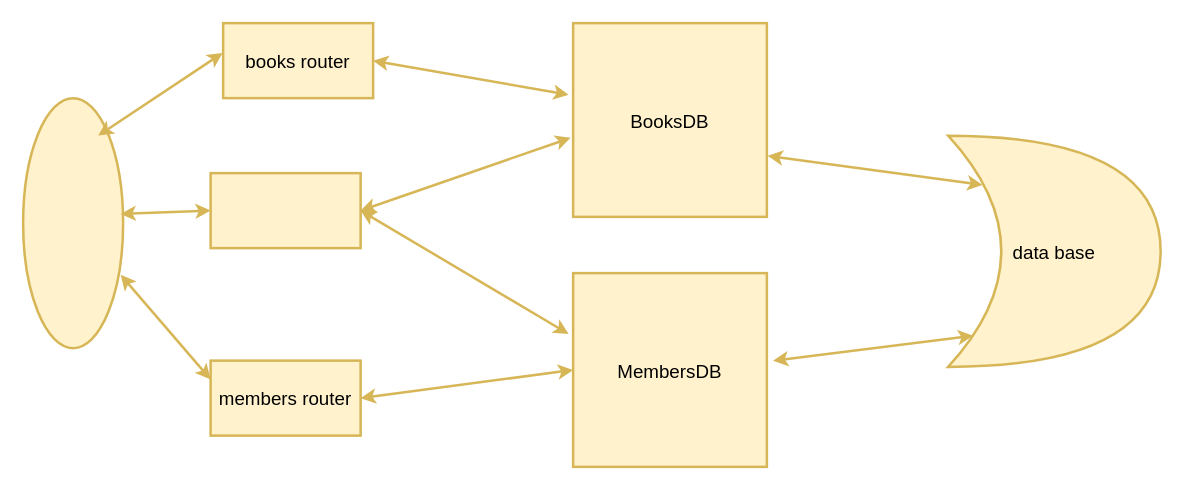
The diagram is 1183 pixels wide and 489 high, and some of its shapes have lost their labels. Here are the shapes that lost their labels. From the top down, the centre of each, then its label:
point (72, 222): client
point (285, 210): reports router
